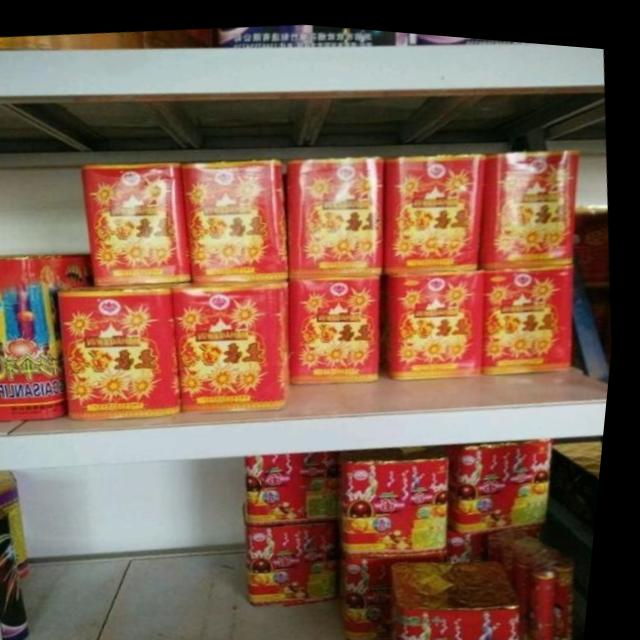box: (63, 281, 190, 419), (0, 250, 96, 421), (175, 275, 294, 407), (183, 151, 293, 278), (84, 157, 194, 284), (346, 516, 454, 634), (482, 138, 583, 259), (387, 144, 488, 265), (290, 147, 388, 270), (400, 551, 534, 640), (348, 438, 458, 546), (391, 260, 489, 372), (446, 429, 561, 523), (486, 254, 581, 367), (294, 267, 387, 378), (255, 515, 345, 600), (252, 445, 347, 520), (0, 505, 43, 640), (0, 469, 43, 579), (457, 518, 506, 551)
